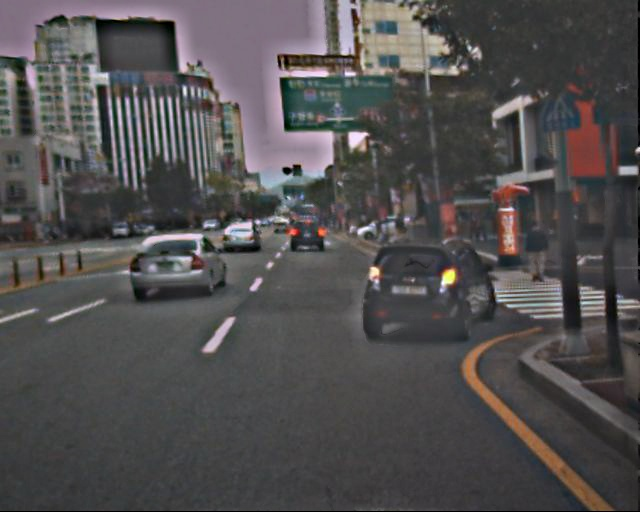person: (524, 220, 550, 284), (470, 215, 488, 244)
